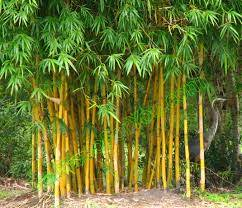bamboo: (3, 1, 128, 194), (133, 2, 208, 191)
